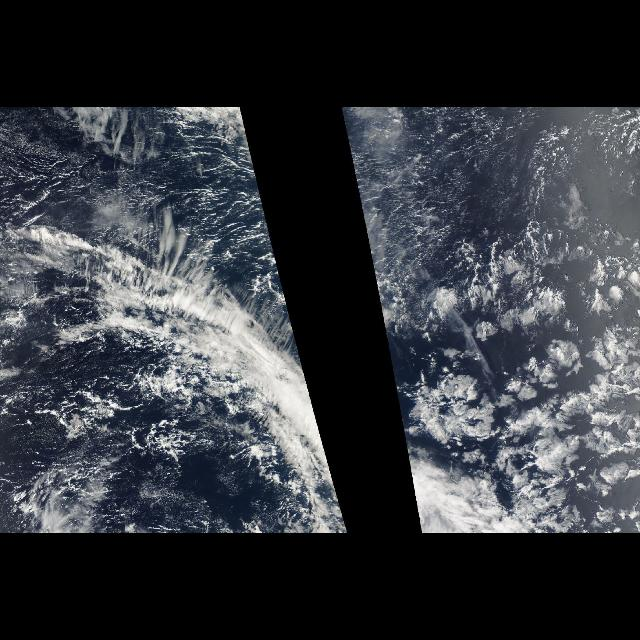Flower: (408, 306, 640, 512)
Gravel: (3, 108, 268, 262)
Sugar: (358, 110, 540, 252)
